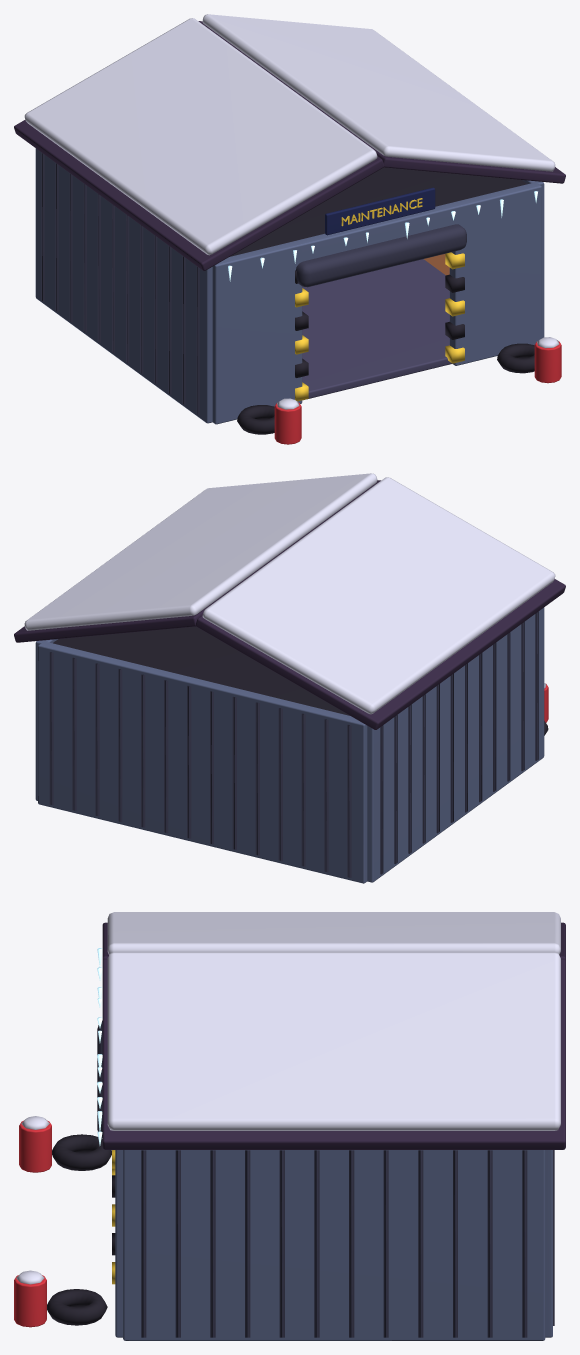
The model's file is frost_shed.glb.
The picture shows the model from 3 angles, top to bottom: view 1: azimuth 30°, elevation 25°; view 2: azimuth 150°, elevation 25°; view 3: azimuth 270°, elevation 25°; orthographic projection. The views are drawn at different scales.
Visible parts, largest first — view 1: Shed; view 2: Shed; view 3: Shed.
Boxes of the visible parts, x1=… form: Shed: x1=14, y1=14, x2=565, y2=444; Shed: x1=14, y1=473, x2=565, y2=883; Shed: x1=14, y1=912, x2=565, y2=1340.
Bounding box in the file's own units: 10.05 × 6.26 × 10.72.
